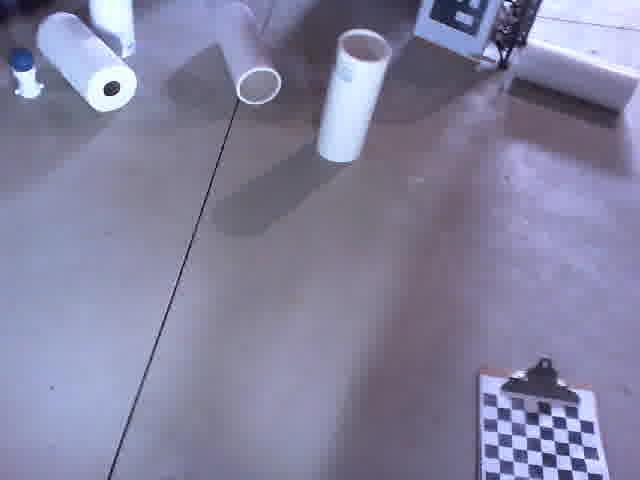coral: (314, 22, 395, 166), (509, 35, 640, 117), (203, 0, 288, 108)
